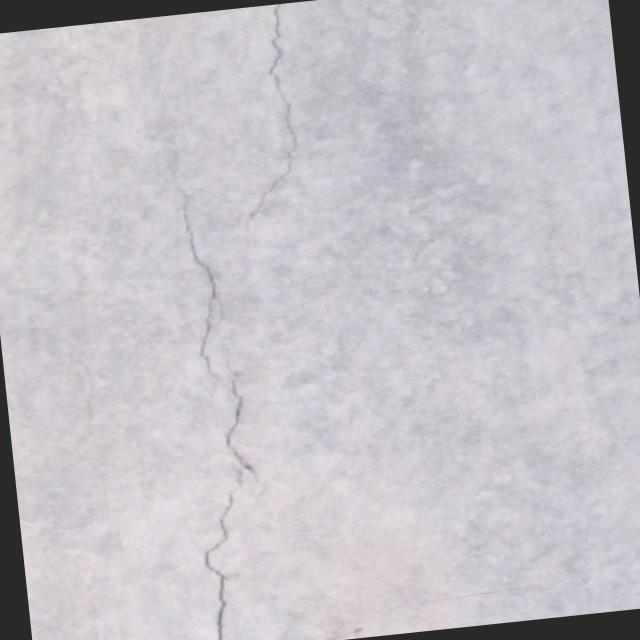crack: (146, 2, 358, 640)
